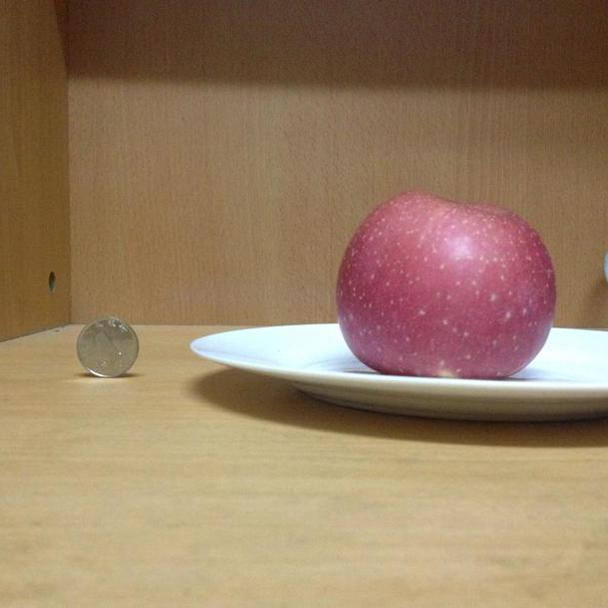apple: (335, 189, 556, 382)
